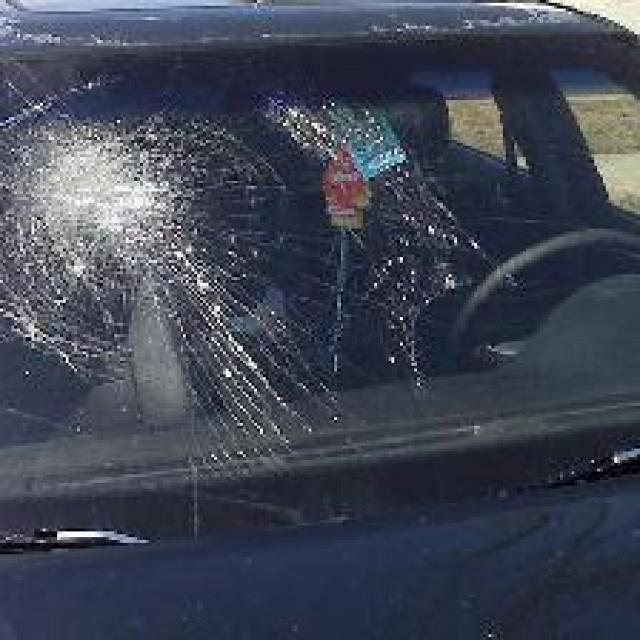damaged: (3, 62, 483, 494)
